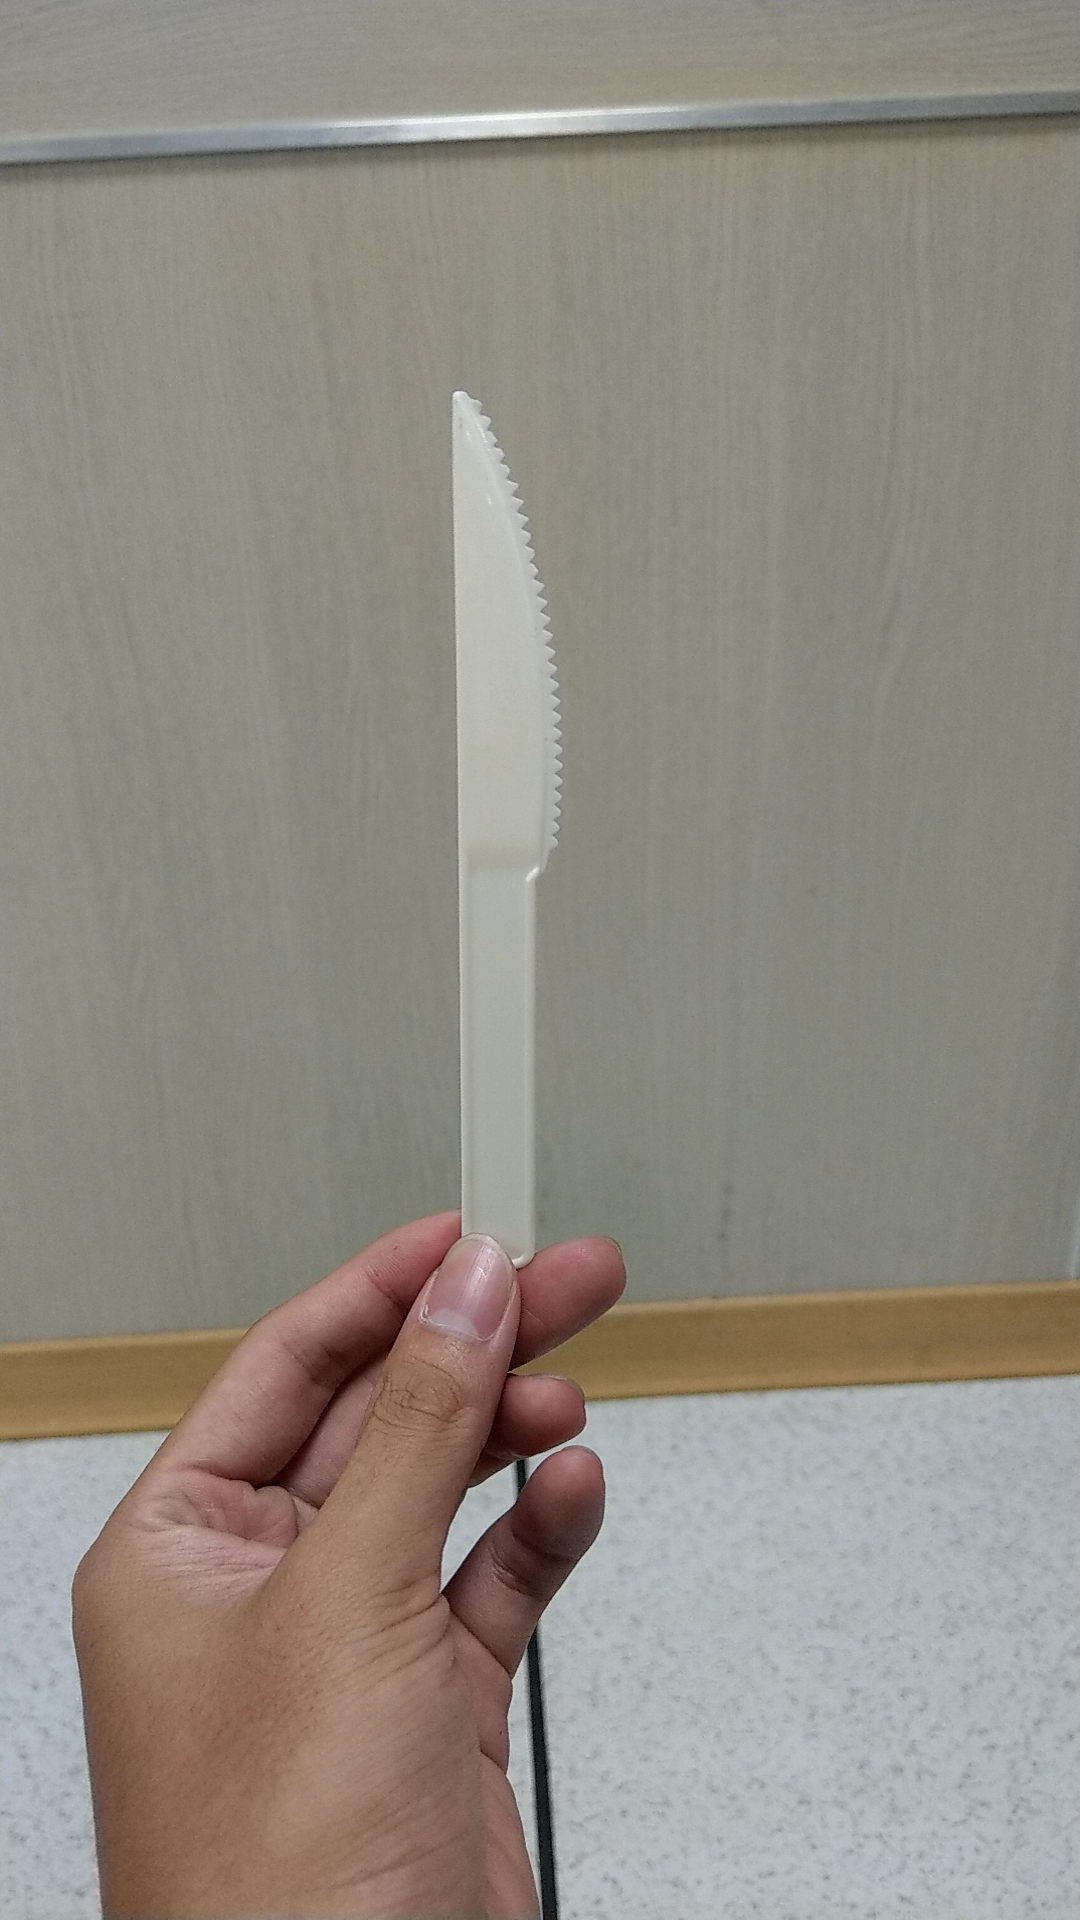knife: (393, 353, 579, 1236)
